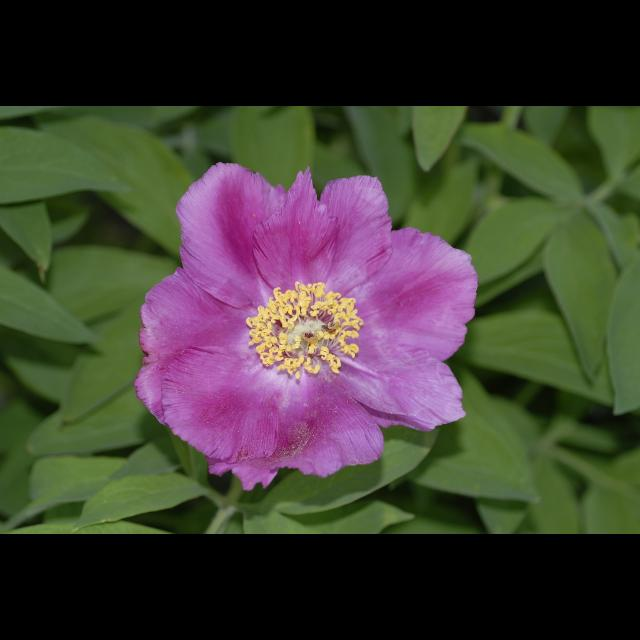Flower: (140, 178, 468, 506)
